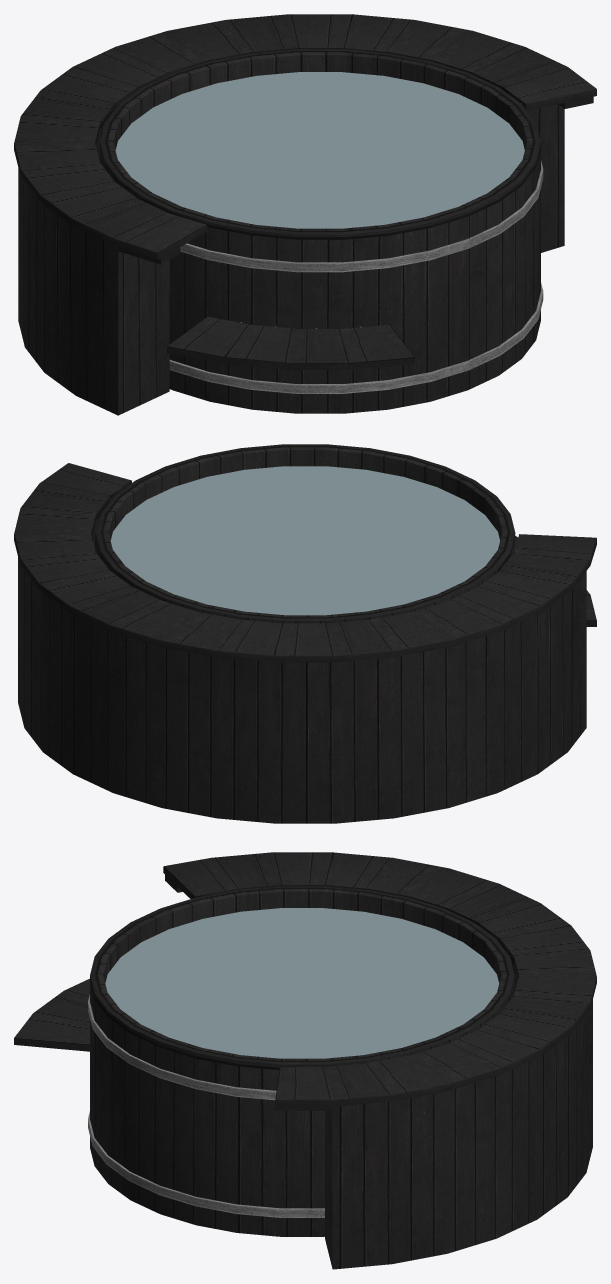
Rendered from HotTub.fbx.
3 renders of one model, top to bottom at view 1: azimuth 30°, elevation 25°; view 2: azimuth 150°, elevation 25°; view 3: azimuth 270°, elevation 25°, orthographic. The views are drawn at different scales.
Parts seen in each view (by area): view 1: hot_tub1, Bubbles; view 2: hot_tub1, Bubbles; view 3: hot_tub1, Bubbles.
Part boxes in pixels (x1=…): hot_tub1: x1=14, y1=14, x2=596, y2=415; Bubbles: x1=115, y1=72, x2=524, y2=228; hot_tub1: x1=14, y1=444, x2=596, y2=823; Bubbles: x1=110, y1=466, x2=499, y2=615; hot_tub1: x1=14, y1=852, x2=596, y2=1269; Bubbles: x1=105, y1=908, x2=499, y2=1058.
Size of the model in its own units: 2.6 by 0.8463 by 2.59.
